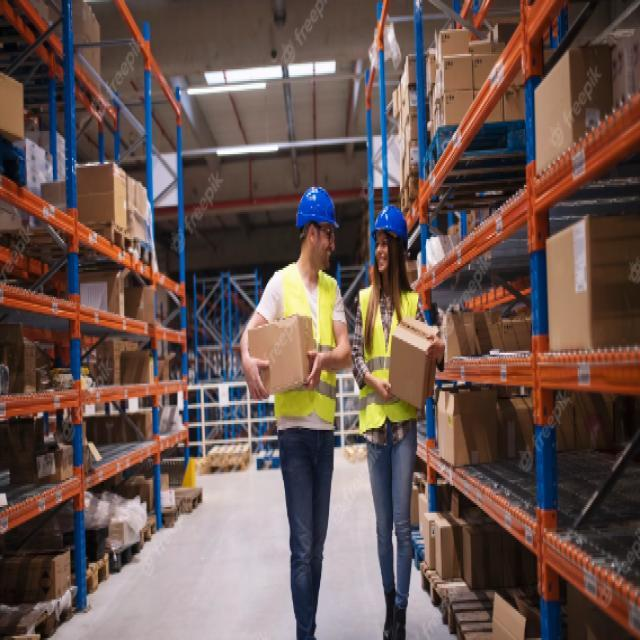hard_hat: (291, 180, 342, 271), (369, 199, 410, 281)
vest: (273, 258, 340, 423), (357, 280, 424, 436)
